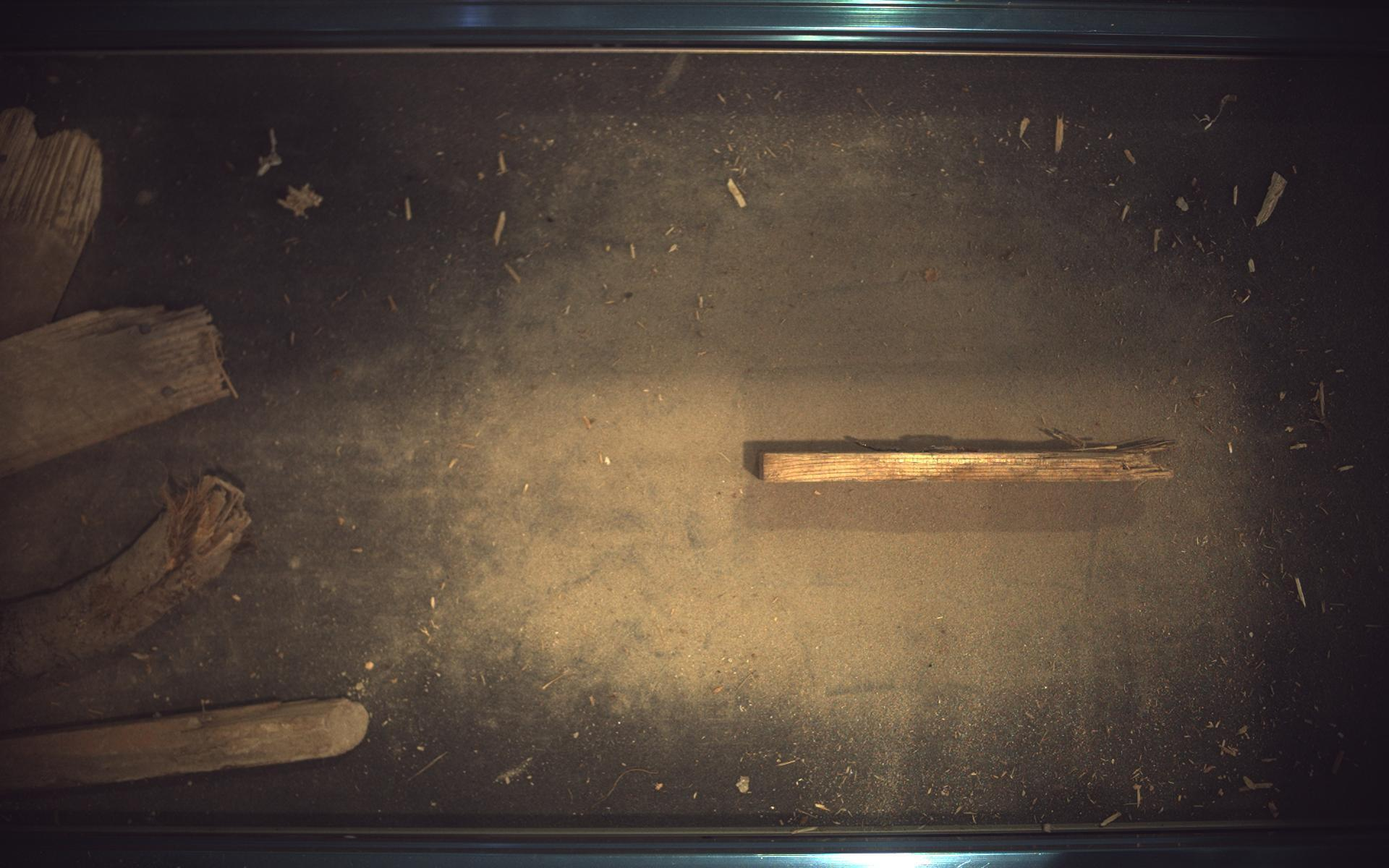wood: (746, 430, 1177, 483)
